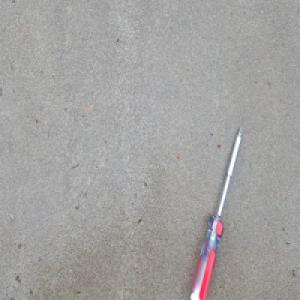Screwdriver: (189, 124, 244, 300)
